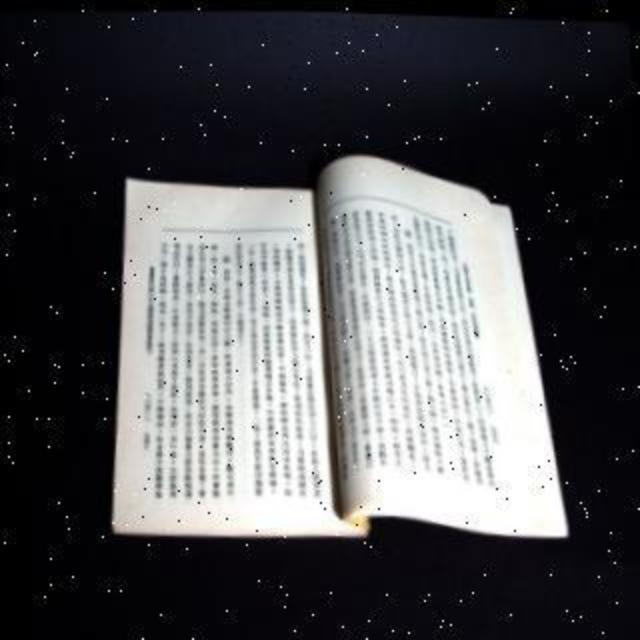book: (86, 138, 566, 552)
